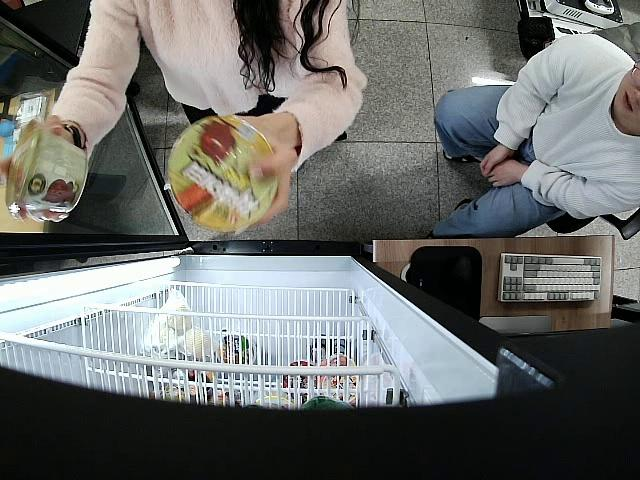00_hand: (235, 113, 295, 229)
04_chapagetti_S: (167, 117, 277, 231), (5, 119, 87, 219)
